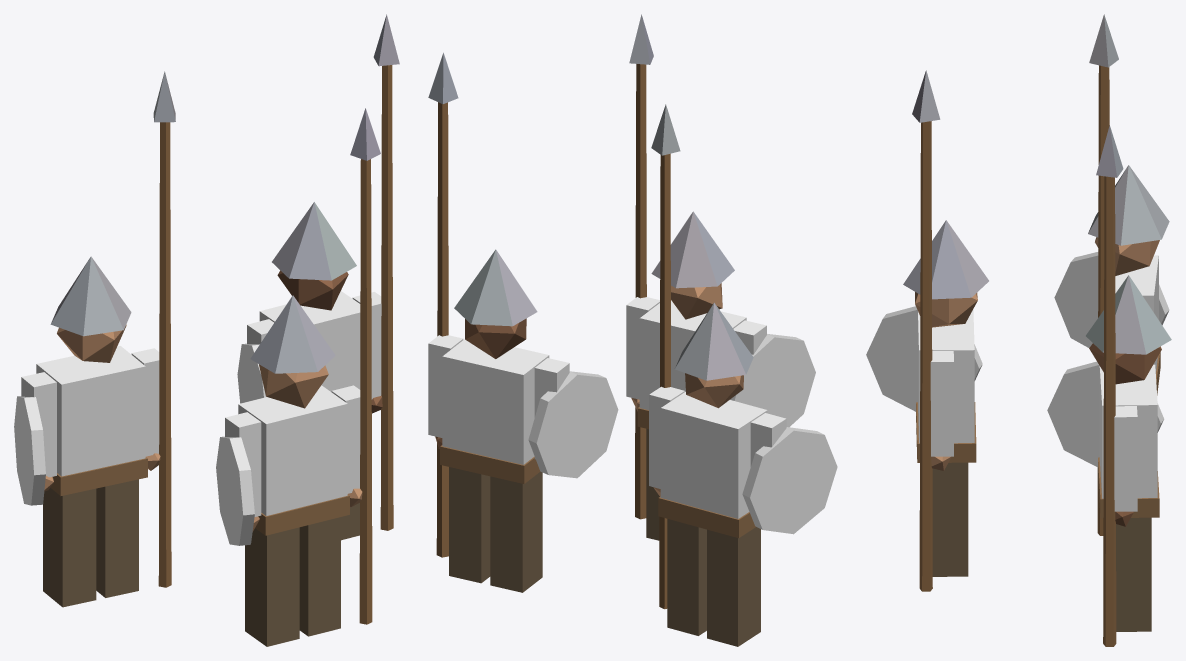
Rendered from Spearman.glb.
The picture shows the model from 3 angles, left to right: view 1: azimuth 30°, elevation 25°; view 2: azimuth 150°, elevation 25°; view 3: azimuth 270°, elevation 25°; orthographic projection. The views are drawn at different scales.
Parts seen in each view (by area): view 1: Units_Spearman; view 2: Units_Spearman; view 3: Units_Spearman.
Part boxes in pixels (x1,y1,x2,y2): Units_Spearman: [14, 14, 399, 646]; Units_Spearman: [428, 14, 837, 646]; Units_Spearman: [866, 14, 1171, 646].
Bounding box in the file's own units: 0.2618 × 0.33 × 0.176.
